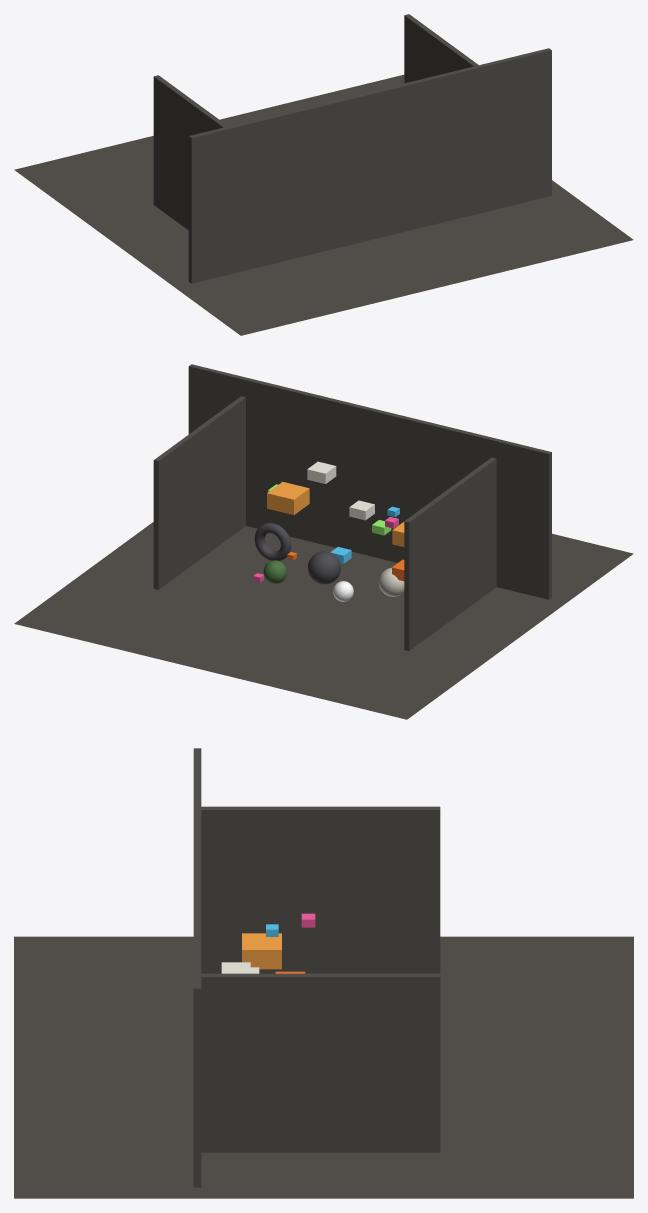
File: lanterns.obj
The picture shows the model from 3 angles, top to bottom: view 1: azimuth 30°, elevation 25°; view 2: azimuth 150°, elevation 25°; view 3: azimuth 270°, elevation 25°; orthographic projection. The views are drawn at different scales.
Size of the model in its own units: 1680 by 595 by 1680.
